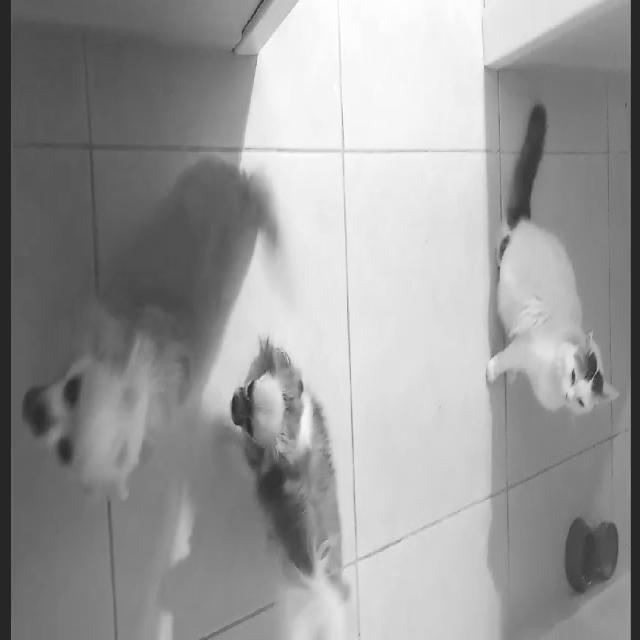Pedrita: (472, 146, 636, 478), (239, 274, 371, 639)
Simba: (472, 146, 636, 478)
Theo: (16, 128, 318, 498)
